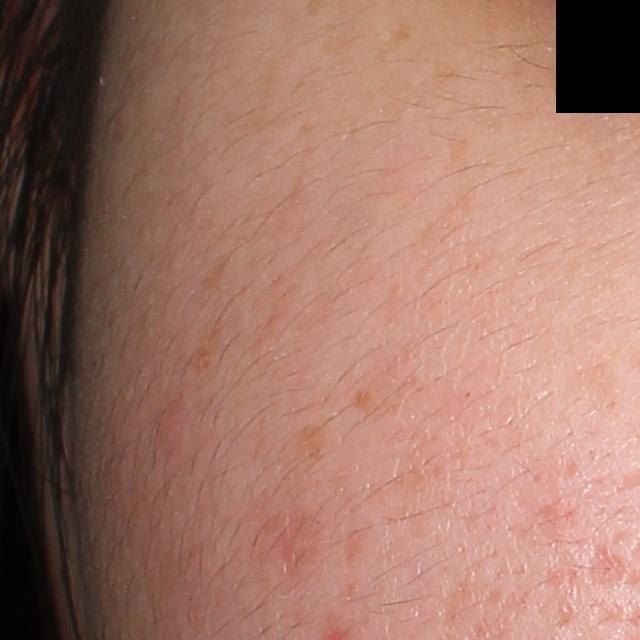melasma: (186, 302, 248, 378), (412, 189, 471, 245), (288, 424, 332, 463), (389, 19, 418, 47)
